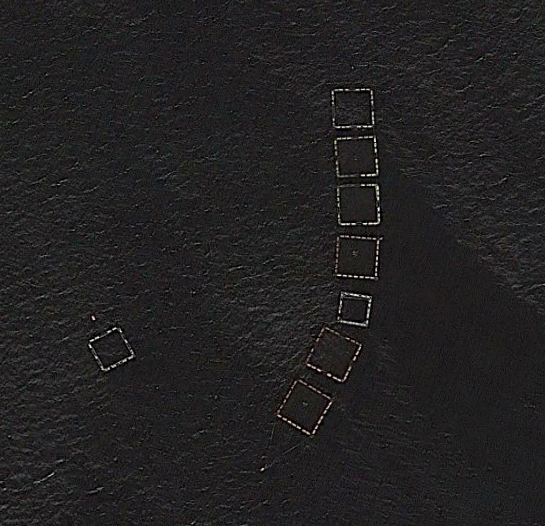square: (304, 317, 375, 386), (74, 316, 149, 376), (274, 374, 335, 434), (325, 126, 386, 182), (324, 80, 384, 134), (331, 173, 388, 229), (338, 283, 385, 335), (335, 233, 382, 282)
